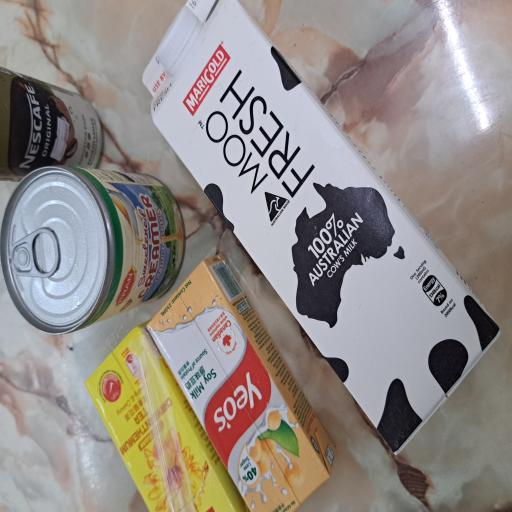can: (134, 2, 260, 245), (248, 0, 336, 138)
drink carton: (41, 189, 383, 512), (2, 113, 142, 328)
plastic bottle cap: (329, 204, 381, 270)
pop tab: (174, 10, 215, 80)
